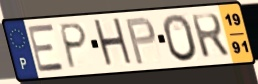E: (26, 23, 67, 74)
H: (91, 16, 136, 70)
O: (161, 12, 199, 63)
P: (124, 15, 158, 67), (59, 22, 89, 72)
R: (189, 12, 232, 60)
